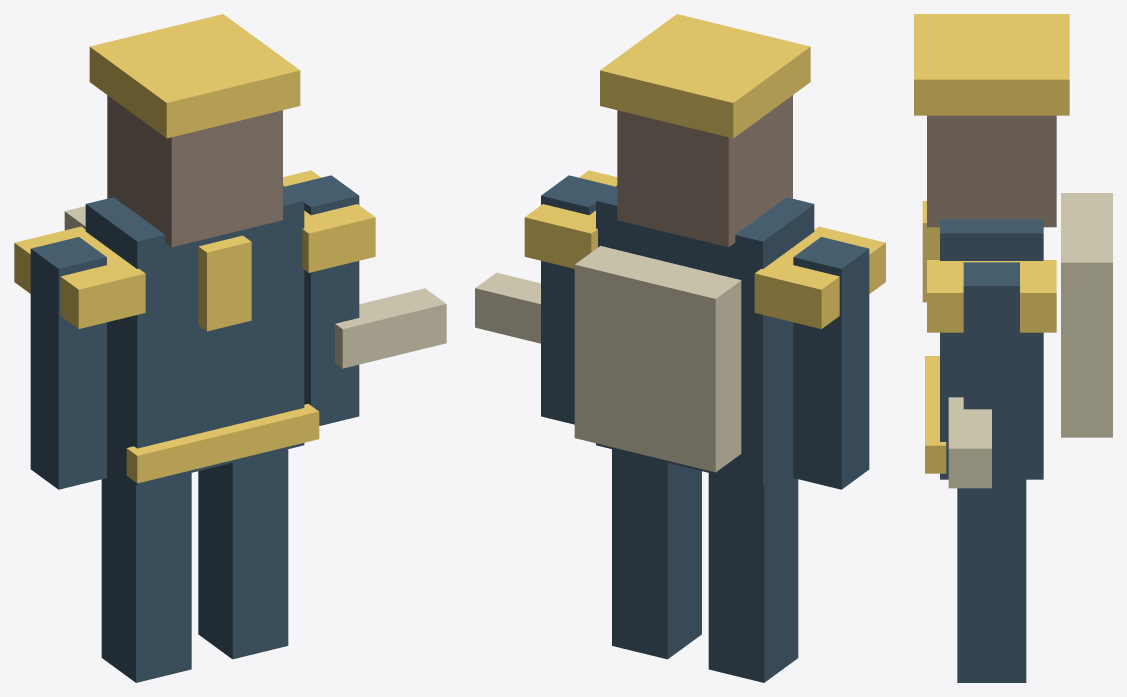
Rendered from 13_korra_latchward_archivist_at_loot.glb.
The picture shows the model from 3 angles, left to right: view 1: azimuth 30°, elevation 25°; view 2: azimuth 150°, elevation 25°; view 3: azimuth 270°, elevation 25°; orthographic projection.
Parts seen in each view (by area): view 1: Korra Latchward, Archivist at Loot; view 2: Korra Latchward, Archivist at Loot; view 3: Korra Latchward, Archivist at Loot.
Boxes of the visible parts, <box> form: Korra Latchward, Archivist at Loot: <box>14,14,446,682</box>; Korra Latchward, Archivist at Loot: <box>475,14,885,682</box>; Korra Latchward, Archivist at Loot: <box>914,14,1112,682</box>.
Bounding box in the file's own units: 0.9575 × 1.43 × 0.4297.
